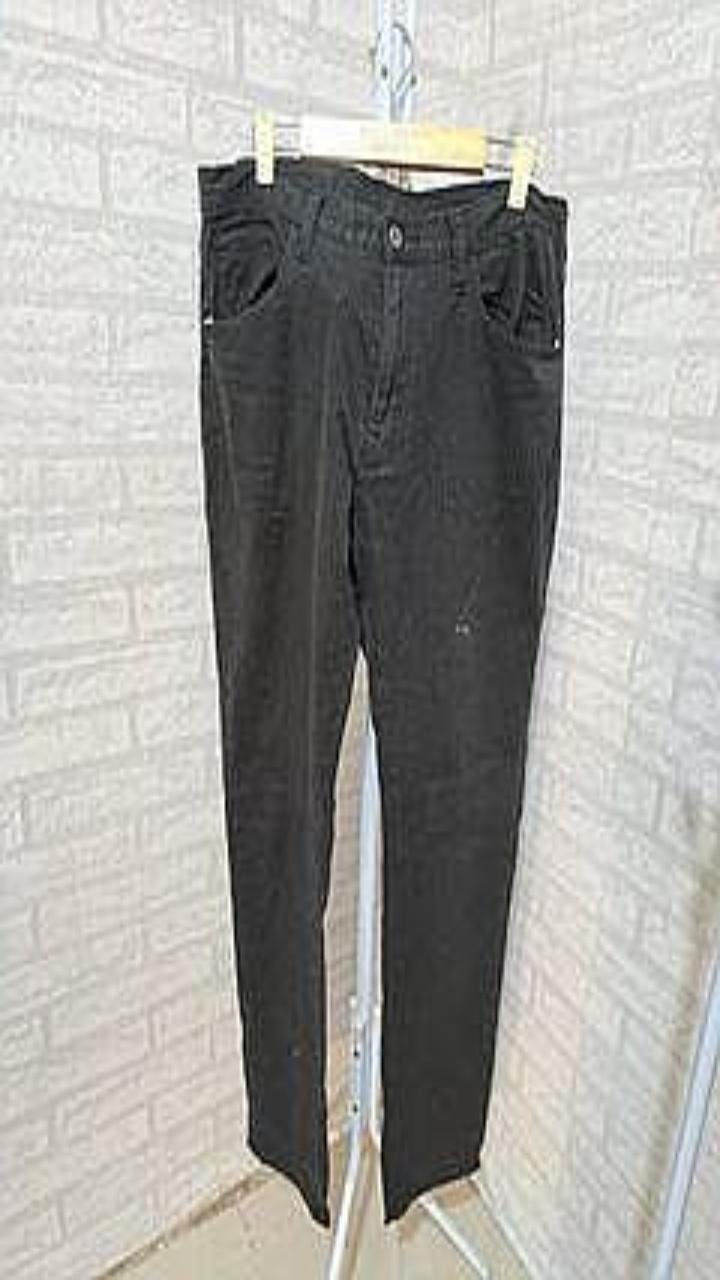Jeans: (198, 155, 567, 1224)
